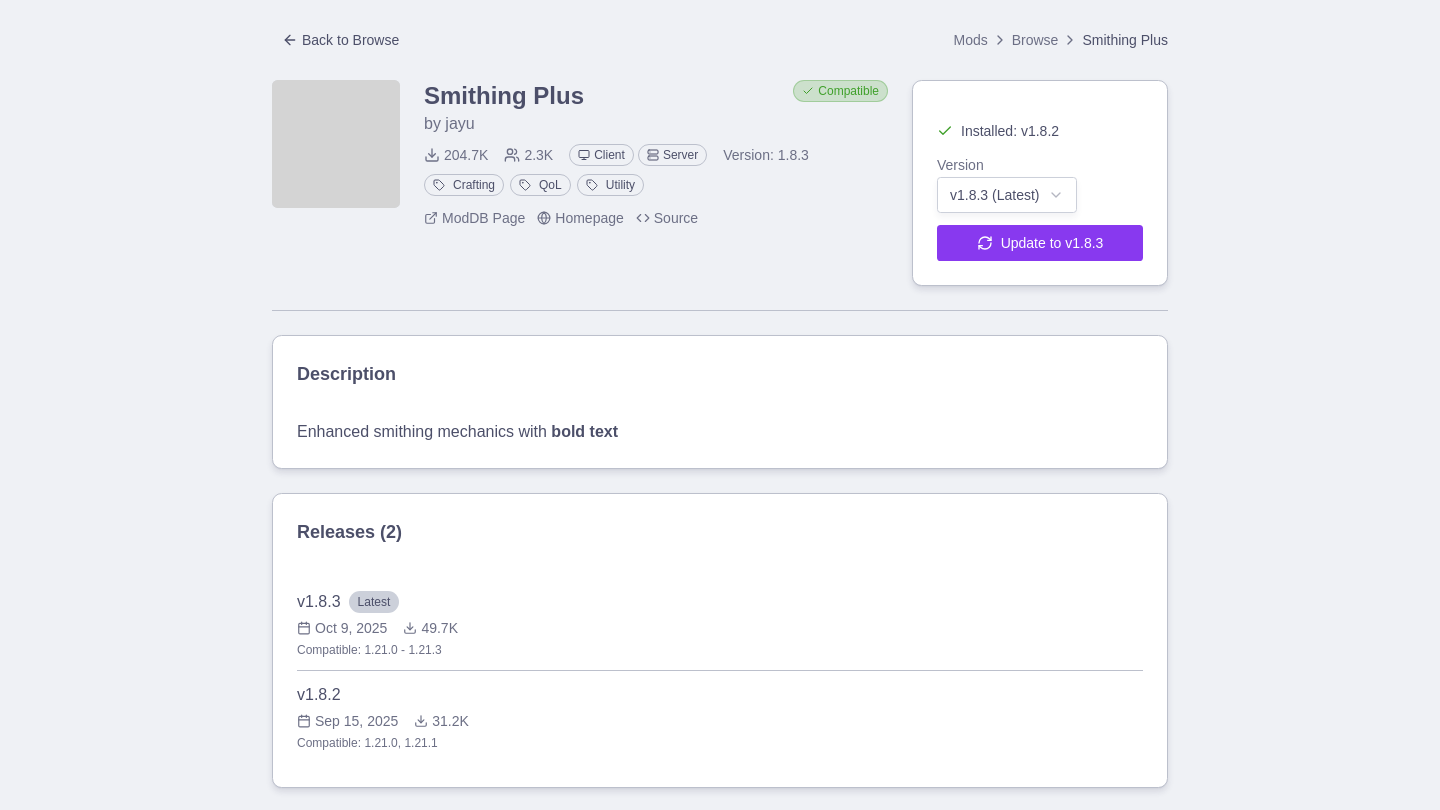
Test: ModDetailPage › install/update section (Task 3) › confirmation dialog (Story 10.8) › opens confirmation dialog when Update button is clicked
Click the button with test id "mod-detail-update-button".
click(1040, 243)  # box [937, 225, 1143, 261]
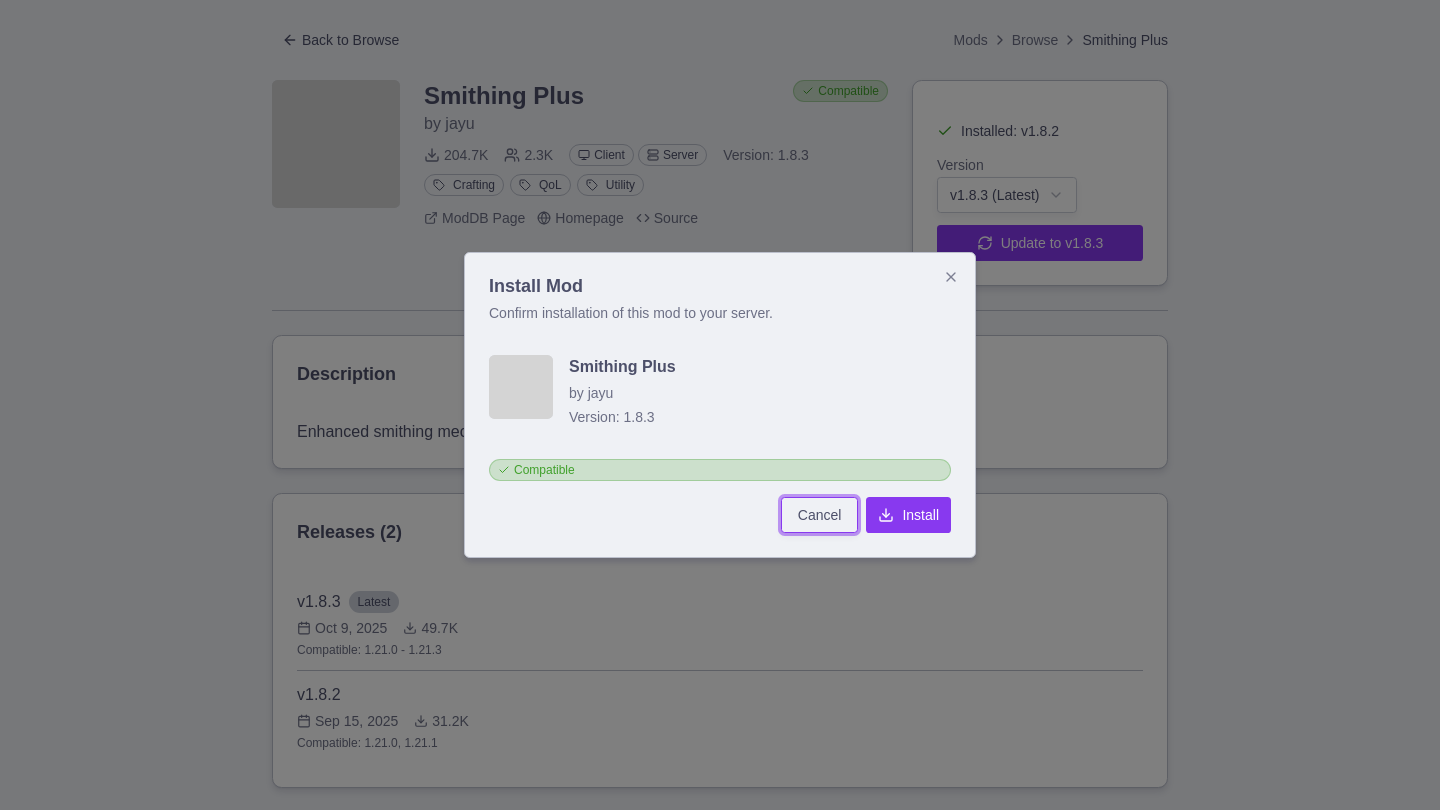
Result: the dialog with test id "install-confirm-dialog" is shown at [464, 252, 976, 558]
Result: the heading with test id "install-dialog-mod-name" reads "Smithing Plus" at [569, 358, 676, 375]
